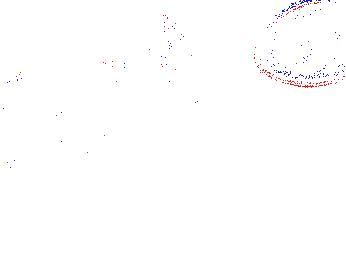moon jellyfish: (253, 1, 346, 88), (102, 12, 184, 88), (1, 8, 39, 84)
